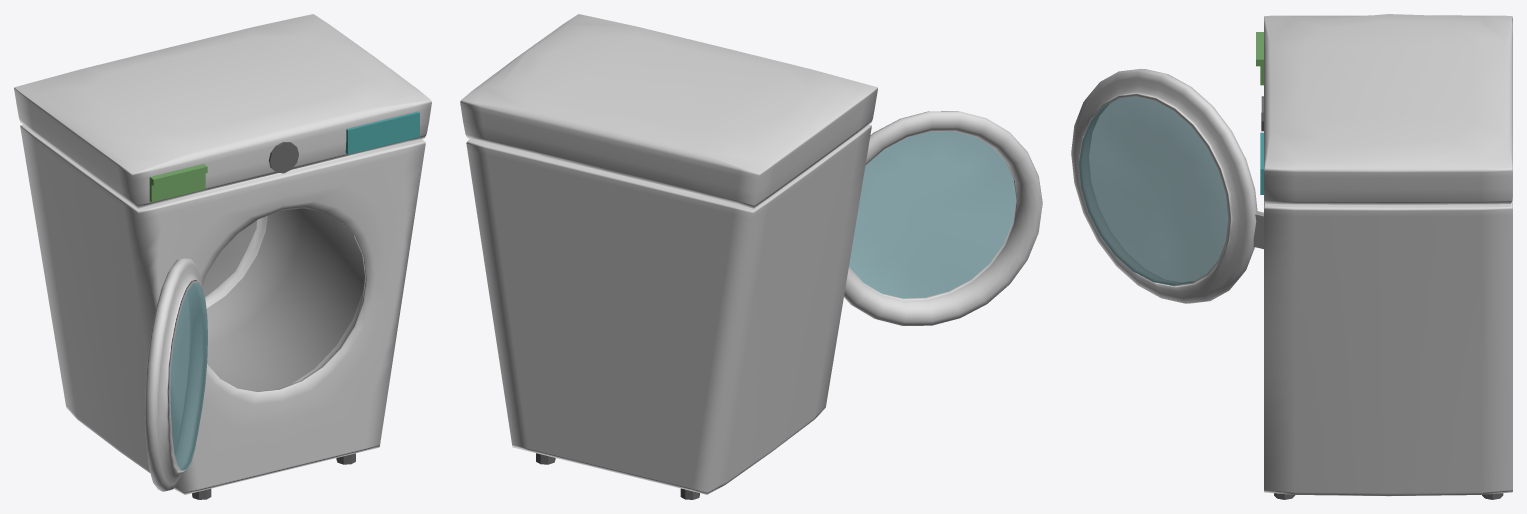
Rendered from Masina_Ves (1).fbx.
3 views of the same model, side by side, from view 1: azimuth 30°, elevation 25°; view 2: azimuth 150°, elevation 25°; view 3: azimuth 270°, elevation 25° (orthographic). The views are drawn at different scales.
Parts seen in each view (by area): view 1: pCube6; view 2: pCube6; view 3: pCube6.
Part boxes in pixels (left/top/right/bottom): pCube6: left=14, top=14, right=431, bottom=499; pCube6: left=460, top=14, right=1042, bottom=499; pCube6: left=1071, top=14, right=1512, bottom=499.
Bounding box in the file's own units: 11.38 × 10.34 × 10.98.
